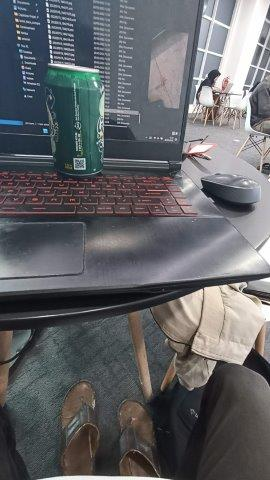kaleng: (43, 63, 105, 176)
